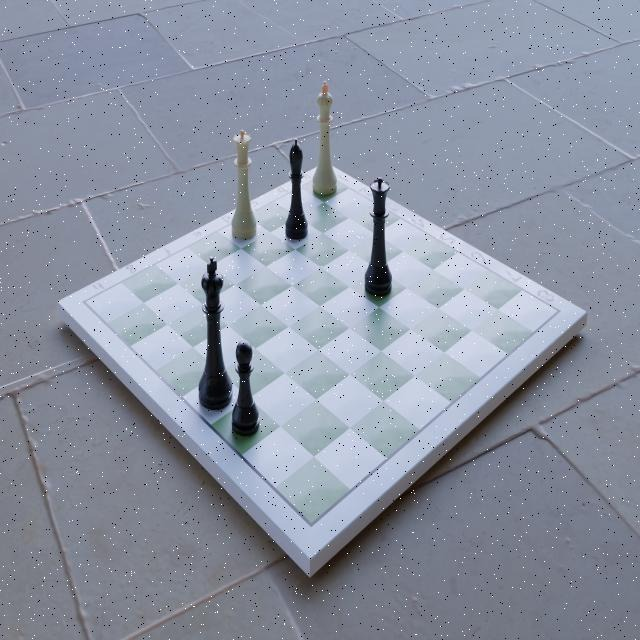black-bishop: (283, 139, 309, 241)
black-king: (198, 255, 233, 413)
black-pawn: (232, 340, 260, 435)
black-queen: (363, 176, 395, 299)
white-king: (311, 79, 337, 197)
white-queen: (230, 128, 258, 244)
